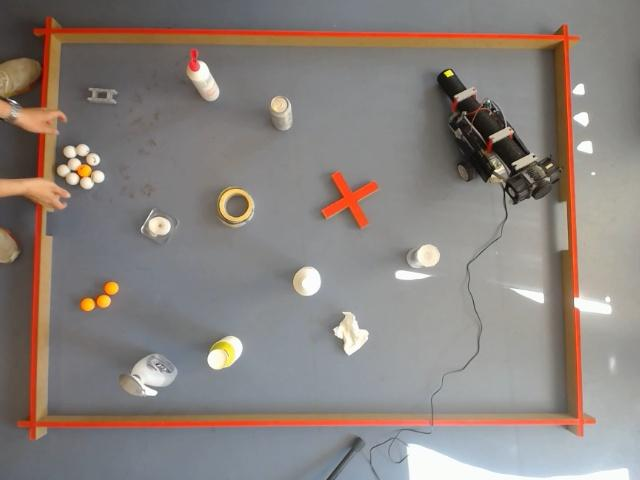orange: (80, 298, 95, 312), (104, 282, 118, 296), (96, 295, 111, 308), (78, 165, 92, 177)
robot: (437, 69, 563, 206)
robot-front: (442, 69, 456, 80)
white: (92, 170, 105, 183), (63, 146, 77, 158), (66, 173, 79, 185), (57, 165, 70, 177), (68, 158, 81, 170), (80, 178, 94, 189), (77, 144, 89, 156), (87, 154, 100, 165)
